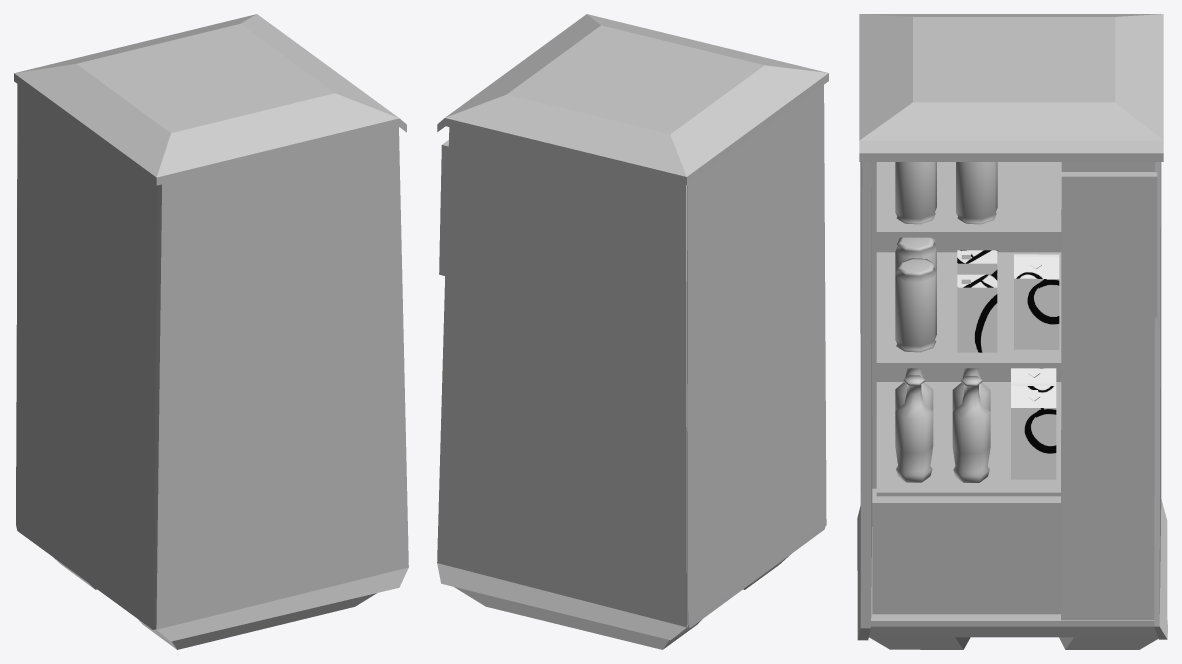
Rendered from DrinkMachineNathalia.fbx.
The picture shows the model from 3 angles, left to right: view 1: azimuth 30°, elevation 25°; view 2: azimuth 150°, elevation 25°; view 3: azimuth 270°, elevation 25°; orthographic projection. The views are drawn at different scales.
Visible parts, largest first — view 1: DrinkMachine; view 2: DrinkMachine; view 3: DrinkMachine.
Boxes of the visible parts, left/top/right/bottom form: DrinkMachine: left=14, top=14, right=408, bottom=649; DrinkMachine: left=437, top=14, right=828, bottom=649; DrinkMachine: left=857, top=14, right=1167, bottom=649.
Size of the model in its own units: 258 by 496 by 257.
